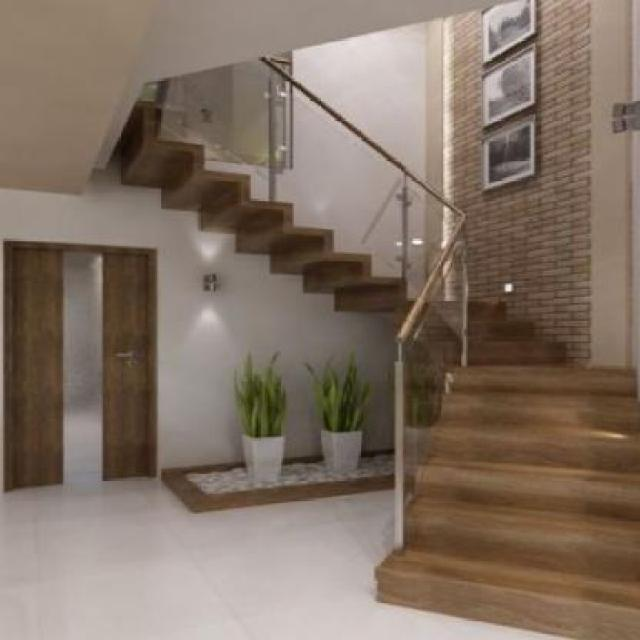stair: (67, 64, 635, 320), (320, 328, 638, 606)
